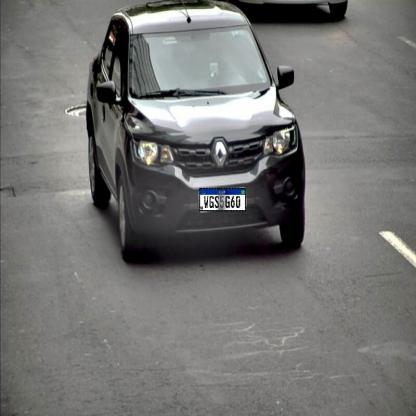PlacaM: (199, 188, 246, 211)
